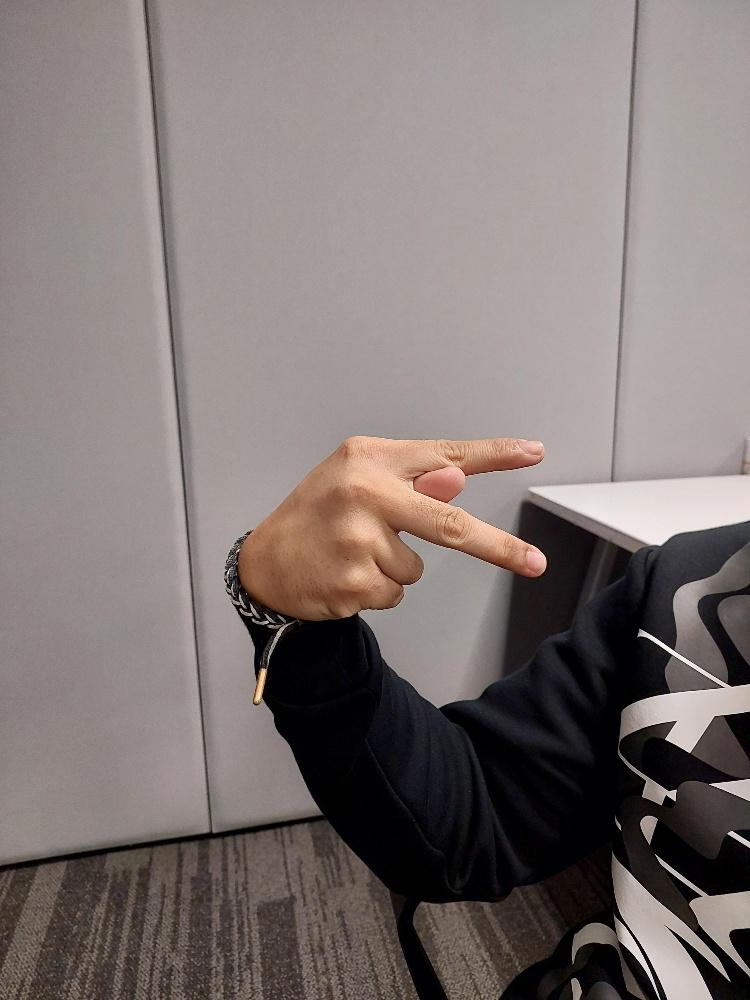k: (226, 432, 548, 627)
